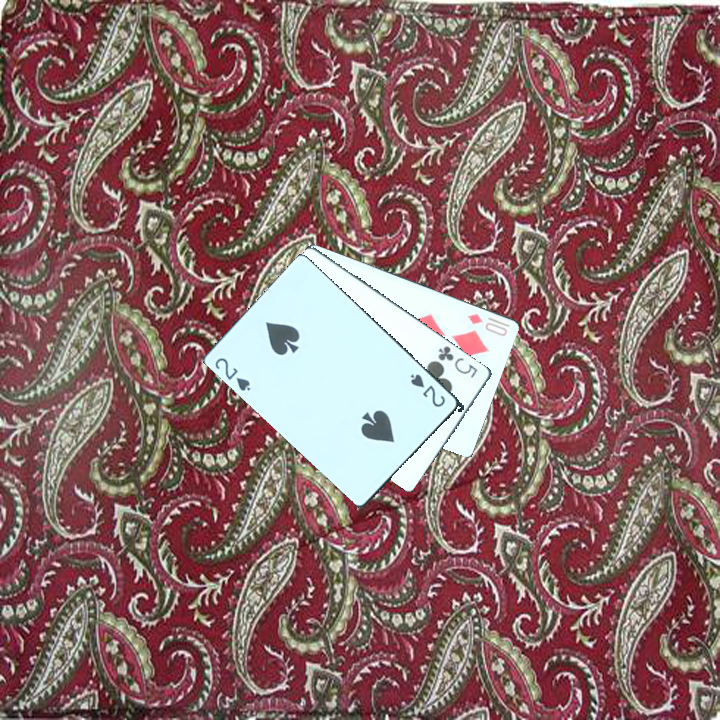10d: (463, 309, 510, 339)
2s: (211, 353, 253, 394), (406, 370, 448, 410)
5c: (434, 342, 480, 380)
